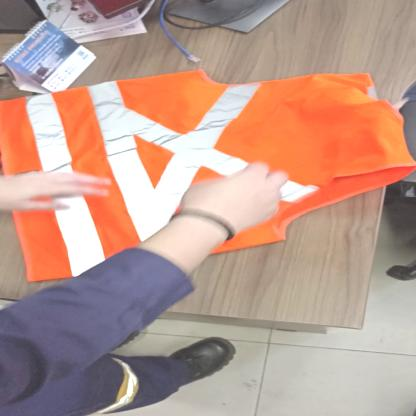colete: (0, 66, 416, 272)
